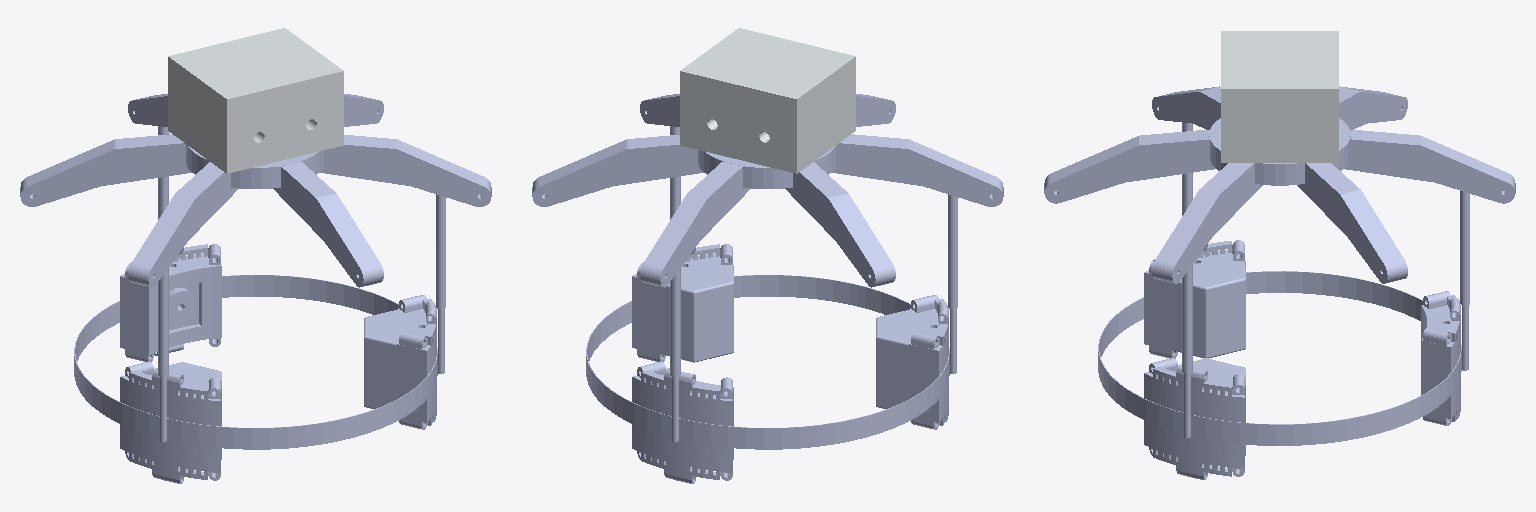
robot.urdf — GrasperAndGantry:
<?xml version="1.0" encoding="utf-8"?>
<!-- This URDF was automatically created by SolidWorks to URDF Exporter! Originally created by [author] ([email redacted]) 
     Commit Version: 1.6.0-4-g7f85cfe  Build Version: 1.6.7995.38578
     For more information, please see http://wiki.ros.org/sw_urdf_exporter -->
<robot
  name="GrasperAndGantry">
  <link
    name="base_link">
    <inertial>
      <origin
        xyz="-1.719E-16 -0.041985 0.017902"
        rpy="0 0 0" />
      <mass
        value="5.7776" />
      <inertia
        ixx="0.32319"
        ixy="1.4897E-16"
        ixz="3.4335E-19"
        iyy="0.27326"
        iyz="1.3637E-17"
        izz="0.59578" />
    </inertial>
    <visual>
      <origin
        xyz="0 0 0"
        rpy="0 0 0" />
      <geometry>
        <mesh
          filename="package://GrasperAndGantry/meshes/base_link.STL" />
      </geometry>
      <material
        name="">
        <color
          rgba="0.89804 0.91765 0.92941 1" />
      </material>
    </visual>
    <collision>
      <origin
        xyz="0 0 0"
        rpy="0 0 0" />
      <geometry>
        <mesh
          filename="package://GrasperAndGantry/meshes/base_link.STL" />
      </geometry>
    </collision>
  </link>
  <link
    name="LeftUpright">
    <inertial>
      <origin
        xyz="-0.28158 0.35631 -0.041985"
        rpy="0 0 0" />
      <mass
        value="1.4886" />
      <inertia
        ixx="0.056019"
        ixy="1.7816E-18"
        ixz="1.5056E-19"
        iyy="0.00025146"
        iyz="2.4679E-19"
        izz="0.056166" />
    </inertial>
    <visual>
      <origin
        xyz="0 0 0"
        rpy="0 0 0" />
      <geometry>
        <mesh
          filename="package://GrasperAndGantry/meshes/LeftUpright.STL" />
      </geometry>
      <material
        name="">
        <color
          rgba="0.89804 0.91765 0.92941 1" />
      </material>
    </visual>
    <collision>
      <origin
        xyz="0 0 0"
        rpy="0 0 0" />
      <geometry>
        <mesh
          filename="package://GrasperAndGantry/meshes/LeftUpright.STL" />
      </geometry>
    </collision>
  </link>
  <joint
    name="LeftUprightJoint"
    type="fixed">
    <origin
      xyz="0 -0.041985 0"
      rpy="1.5708 0 0" />
    <parent
      link="base_link" />
    <child
      link="LeftUpright" />
    <axis
      xyz="0 0 0" />
  </joint>
  <link
    name="ZBar">
    <inertial>
      <origin
        xyz="2.2859E-15 0.010235 -0.041985"
        rpy="0 0 0" />
      <mass
        value="0.92261" />
      <inertia
        ixx="0.00010656"
        ixy="-4.2485E-20"
        ixz="3.0107E-18"
        iyy="0.023961"
        iyz="2.4839E-21"
        izz="0.023919" />
    </inertial>
    <visual>
      <origin
        xyz="0 0 0"
        rpy="0 0 0" />
      <geometry>
        <mesh
          filename="package://GrasperAndGantry/meshes/ZBar.STL" />
      </geometry>
      <material
        name="">
        <color
          rgba="0.89412 0.91373 0.92941 1" />
      </material>
    </visual>
    <collision>
      <origin
        xyz="0 0 0"
        rpy="0 0 0" />
      <geometry>
        <mesh
          filename="package://GrasperAndGantry/meshes/ZBar.STL" />
      </geometry>
    </collision>
  </link>
  <joint
    name="ZBar_Joint"
    type="prismatic">
    <origin
      xyz="0 0.56296 0"
      rpy="0 0 0" />
    <parent
      link="LeftUpright" />
    <child
      link="ZBar" />
    <axis
      xyz="0 1 0" />
    <limit
      lower="-0.5"
      upper="0"
      effort="0"
      velocity="0" />
  </joint>
  <link
    name="GrasperBase">
    <inertial>
      <origin
        xyz="-0.028605 0.017479 3.8734E-16"
        rpy="0 0 0" />
      <mass
        value="0.26347" />
      <inertia
        ixx="8.1922E-05"
        ixy="-3.9184E-22"
        ixz="-1.6378E-21"
        iyy="0.00012733"
        iyz="1.3026E-21"
        izz="9.9473E-05" />
    </inertial>
    <visual>
      <origin
        xyz="0 0 0"
        rpy="0 0 0" />
      <geometry>
        <mesh
          filename="package://GrasperAndGantry/meshes/GrasperBase.STL" />
      </geometry>
      <material
        name="">
        <color
          rgba="0.89412 0.91373 0.92941 1" />
      </material>
    </visual>
    <collision>
      <origin
        xyz="0 0 0"
        rpy="0 0 0" />
      <geometry>
        <mesh
          filename="package://GrasperAndGantry/meshes/GrasperBase.STL" />
      </geometry>
    </collision>
  </link>
  <joint
    name="GrasperBase"
    type="prismatic">
    <origin
      xyz="0.028605 -0.0348 -0.041985"
      rpy="0 0 0" />
    <parent
      link="ZBar" />
    <child
      link="GrasperBase" />
    <axis
      xyz="1 0 0" />
    <limit
      lower="-0.2"
      upper="0.2"
      effort="0"
      velocity="0" />
  </joint>
  <link
    name="GrasperConnector">
    <inertial>
      <origin
        xyz="1.5935E-17 0.090818 1.2891E-15"
        rpy="0 0 0" />
      <mass
        value="0.092827" />
      <inertia
        ixx="0.00014637"
        ixy="1.0134E-18"
        ixz="-4.9036E-19"
        iyy="0.00027935"
        iyz="3.4682E-18"
        izz="0.00014637" />
    </inertial>
    <visual>
      <origin
        xyz="0 0 0"
        rpy="0 0 0" />
      <geometry>
        <mesh
          filename="package://GrasperAndGantry/meshes/GrasperConnector.STL" />
      </geometry>
      <material
        name="">
        <color
          rgba="0.79216 0.81961 0.93333 1" />
      </material>
    </visual>
    <collision>
      <origin
        xyz="0 0 0"
        rpy="0 0 0" />
      <geometry>
        <mesh
          filename="package://GrasperAndGantry/meshes/GrasperConnector.STL" />
      </geometry>
    </collision>
  </link>
  <joint
    name="GBGB"
    type="fixed">
    <origin
      xyz="-0.028605 -0.10472 0"
      rpy="0 0 0" />
    <parent
      link="GrasperBase" />
    <child
      link="GrasperConnector" />
    <axis
      xyz="0 0 0" />
  </joint>
  <link
    name="CylinderCons">
    <inertial>
      <origin
        xyz="-3.16E-15 0.0028145 2.5434E-15"
        rpy="0 0 0" />
      <mass
        value="0.0026009" />
      <inertia
        ixx="7.883E-06"
        ixy="1.4399E-21"
        ixz="-5.4643E-21"
        iyy="1.5503E-05"
        iyz="1.3506E-20"
        izz="7.883E-06" />
    </inertial>
    <visual>
      <origin
        xyz="0 0 0"
        rpy="0 0 0" />
      <geometry>
        <mesh
          filename="package://GrasperAndGantry/meshes/CylinderCons.STL" />
      </geometry>
      <material
        name="">
        <color
          rgba="0.79216 0.81961 0.93333 1" />
      </material>
    </visual>
    <collision>
      <origin
        xyz="0 0 0"
        rpy="0 0 0" />
      <geometry>
        <mesh
          filename="package://GrasperAndGantry/meshes/CylinderCons.STL" />
      </geometry>
    </collision>
  </link>
  <joint
    name="BCC"
    type="fixed">
    <origin
      xyz="0 0 0"
      rpy="0 0 0" />
    <parent
      link="GrasperConnector" />
    <child
      link="CylinderCons" />
    <axis
      xyz="0 0 0" />
  </joint>
  <link
    name="SoftSupport1">
    <inertial>
      <origin
        xyz="-3.4907E-15 -6.088E-05 -0.069509"
        rpy="0 0 0" />
      <mass
        value="0.020019" />
      <inertia
        ixx="2.8922E-06"
        ixy="1.8558E-21"
        ixz="1.5663E-20"
        iyy="3.6958E-06"
        iyz="-8.3292E-10"
        izz="5.9269E-06" />
    </inertial>
    <visual>
      <origin
        xyz="0 0 0"
        rpy="0 0 0" />
      <geometry>
        <mesh
          filename="package://GrasperAndGantry/meshes/SoftSupport1.STL" />
      </geometry>
      <material
        name="">
        <color
          rgba="0.79216 0.81961 0.93333 1" />
      </material>
    </visual>
    <collision>
      <origin
        xyz="0 0 0"
        rpy="0 0 0" />
      <geometry>
        <mesh
          filename="package://GrasperAndGantry/meshes/SoftSupport1.STL" />
      </geometry>
    </collision>
  </link>
  <joint
    name="LinearJaw1"
    type="prismatic">
    <origin
      xyz="0 0 0"
      rpy="0 0 0" />
    <parent
      link="CylinderCons" />
    <child
      link="SoftSupport1" />
    <axis
      xyz="0 0 1" />
    <limit
      lower="0"
      upper="1"
      effort="0"
      velocity="0" />
    <dynamics
      damping="0.1"
      friction="0.1" />
  </joint>
  <link
    name="SoftJaw1">
    <inertial>
      <origin
        xyz="-3.4944E-15 0 -0.054391"
        rpy="0 0 0" />
      <mass
        value="0.015121" />
      <inertia
        ixx="1.7236E-06"
        ixy="-4.3817E-21"
        ixz="-2.0706E-21"
        iyy="1.331E-06"
        iyz="-4.0882E-22"
        izz="2.4259E-06" />
    </inertial>
    <visual>
      <origin
        xyz="0 0 0"
        rpy="0 0 0" />
      <geometry>
        <mesh
          filename="package://GrasperAndGantry/meshes/SoftJaw1.STL" />
      </geometry>
      <material
        name="">
        <color
          rgba="0.79216 0.81961 0.93333 1" />
      </material>
    </visual>
    <collision>
      <origin
        xyz="0 0 0"
        rpy="0 0 0" />
      <geometry>
        <mesh
          filename="package://GrasperAndGantry/meshes/SoftJaw1.STL" />
      </geometry>
    </collision>
  </link>
  <joint
    name="SJ1"
    type="fixed">
    <origin
      xyz="0 0 0"
      rpy="0 0 0" />
    <parent
      link="SoftSupport1" />
    <child
      link="SoftJaw1" />
    <axis
      xyz="0 0 0" />
  </joint>
  <link
    name="SoftSupport2">
    <inertial>
      <origin
        xyz="5.0259E-09 -6.0879E-05 -0.069509"
        rpy="0 0 0" />
      <mass
        value="0.020019" />
      <inertia
        ixx="2.8922E-06"
        ixy="-2.1735E-13"
        ixz="-2.0391E-13"
        iyy="3.6958E-06"
        iyz="-8.3305E-10"
        izz="5.9269E-06" />
    </inertial>
    <visual>
      <origin
        xyz="0 0 0"
        rpy="0 0 0" />
      <geometry>
        <mesh
          filename="package://GrasperAndGantry/meshes/SoftSupport2.STL" />
      </geometry>
      <material
        name="">
        <color
          rgba="0.79216 0.81961 0.93333 1" />
      </material>
    </visual>
    <collision>
      <origin
        xyz="0 0 0"
        rpy="0 0 0" />
      <geometry>
        <mesh
          filename="package://GrasperAndGantry/meshes/SoftSupport2.STL" />
      </geometry>
    </collision>
  </link>
  <joint
    name="LinearJaw2"
    type="prismatic">
    <origin
      xyz="0 0 0"
      rpy="3.1416 -1.0472 3.1416" />
    <parent
      link="CylinderCons" />
    <child
      link="SoftSupport2" />
    <axis
      xyz="-0.86603 0 -0.5" />
    <limit
      lower="0"
      upper="1"
      effort="0"
      velocity="0" />
    <dynamics
      damping="0.1"
      friction="0.1" />
  </joint>
  <link
    name="SoftJaw2">
    <inertial>
      <origin
        xyz="-6.7381E-11 5.5511E-17 -0.054391"
        rpy="0 0 0" />
      <mass
        value="0.015121" />
      <inertia
        ixx="1.7236E-06"
        ixy="-1.7784E-21"
        ixz="1.0243E-14"
        iyy="1.331E-06"
        iyz="8.3805E-23"
        izz="2.4259E-06" />
    </inertial>
    <visual>
      <origin
        xyz="0 0 0"
        rpy="0 0 0" />
      <geometry>
        <mesh
          filename="package://GrasperAndGantry/meshes/SoftJaw2.STL" />
      </geometry>
      <material
        name="">
        <color
          rgba="0.79216 0.81961 0.93333 1" />
      </material>
    </visual>
    <collision>
      <origin
        xyz="0 0 0"
        rpy="0 0 0" />
      <geometry>
        <mesh
          filename="package://GrasperAndGantry/meshes/SoftJaw2.STL" />
      </geometry>
    </collision>
  </link>
  <joint
    name="SJ2"
    type="fixed">
    <origin
      xyz="0 0 0"
      rpy="0 0 0" />
    <parent
      link="SoftSupport2" />
    <child
      link="SoftJaw2" />
    <axis
      xyz="0 0 0" />
  </joint>
  <link
    name="SoftSupport3">
    <inertial>
      <origin
        xyz="-5.0259E-09 -6.0879E-05 -0.069509"
        rpy="0 0 0" />
      <mass
        value="0.020019" />
      <inertia
        ixx="2.8922E-06"
        ixy="2.1735E-13"
        ixz="2.0391E-13"
        iyy="3.6958E-06"
        iyz="-8.3305E-10"
        izz="5.9269E-06" />
    </inertial>
    <visual>
      <origin
        xyz="0 0 0"
        rpy="0 0 0" />
      <geometry>
        <mesh
          filename="package://GrasperAndGantry/meshes/SoftSupport3.STL" />
      </geometry>
      <material
        name="">
        <color
          rgba="0.79216 0.81961 0.93333 1" />
      </material>
    </visual>
    <collision>
      <origin
        xyz="0 0 0"
        rpy="0 0 0" />
      <geometry>
        <mesh
          filename="package://GrasperAndGantry/meshes/SoftSupport3.STL" />
      </geometry>
    </collision>
  </link>
  <joint
    name="LinearJaw3"
    type="prismatic">
    <origin
      xyz="0 0 0"
      rpy="3.1416 1.0472 3.1416" />
    <parent
      link="CylinderCons" />
    <child
      link="SoftSupport3" />
    <axis
      xyz="0.86603 0 -0.5" />
    <limit
      lower="0"
      upper="1"
      effort="0"
      velocity="0" />
    <dynamics
      damping="0.1"
      friction="0.1" />
  </joint>
  <link
    name="SoftJaw3">
    <inertial>
      <origin
        xyz="6.7374E-11 5.5511E-17 -0.054391"
        rpy="0 0 0" />
      <mass
        value="0.015121" />
      <inertia
        ixx="1.7236E-06"
        ixy="-2.8035E-21"
        ixz="-1.0243E-14"
        iyy="1.331E-06"
        iyz="-1.2094E-22"
        izz="2.4259E-06" />
    </inertial>
    <visual>
      <origin
        xyz="0 0 0"
        rpy="0 0 0" />
      <geometry>
        <mesh
          filename="package://GrasperAndGantry/meshes/SoftJaw3.STL" />
      </geometry>
      <material
        name="">
        <color
          rgba="0.79216 0.81961 0.93333 1" />
      </material>
    </visual>
    <collision>
      <origin
        xyz="0 0 0"
        rpy="0 0 0" />
      <geometry>
        <mesh
          filename="package://GrasperAndGantry/meshes/SoftJaw3.STL" />
      </geometry>
    </collision>
  </link>
  <joint
    name="SJ3"
    type="fixed">
    <origin
      xyz="0 0 0"
      rpy="0 0 0" />
    <parent
      link="SoftSupport3" />
    <child
      link="SoftJaw3" />
    <axis
      xyz="0 0 0" />
  </joint>
  <link
    name="RightUpright">
    <inertial>
      <origin
        xyz="0.28158 0.35631 -0.041985"
        rpy="0 0 0" />
      <mass
        value="1.4886" />
      <inertia
        ixx="0.056019"
        ixy="1.2421E-18"
        ixz="-2.2308E-19"
        iyy="0.00025146"
        iyz="1.1323E-18"
        izz="0.056166" />
    </inertial>
    <visual>
      <origin
        xyz="0 0 0"
        rpy="0 0 0" />
      <geometry>
        <mesh
          filename="package://GrasperAndGantry/meshes/RightUpright.STL" />
      </geometry>
      <material
        name="">
        <color
          rgba="0.89804 0.91765 0.92941 1" />
      </material>
    </visual>
    <collision>
      <origin
        xyz="0 0 0"
        rpy="0 0 0" />
      <geometry>
        <mesh
          filename="package://GrasperAndGantry/meshes/RightUpright.STL" />
      </geometry>
    </collision>
  </link>
  <joint
    name="RightUprightJoint"
    type="fixed">
    <origin
      xyz="0 -0.041985 0"
      rpy="1.5708 0 0" />
    <parent
      link="base_link" />
    <child
      link="RightUpright" />
    <axis
      xyz="0 0 0" />
    <limit
      lower="-0.5"
      upper="0.5"
      effort="0"
      velocity="0" />
    <dynamics
      damping="0"
      friction="0" />
  </joint>
  <link
    name="BasePlate">
    <inertial>
      <origin
        xyz="0 0 0"
        rpy="0 0 0" />
      <mass
        value="0" />
      <inertia
        ixx="0"
        ixy="0"
        ixz="0"
        iyy="0"
        iyz="0"
        izz="0" />
    </inertial>
    <visual>
      <origin
        xyz="0 0 0"
        rpy="0 0 0" />
      <geometry>
        <mesh
          filename="package://GrasperAndGantry/meshes/BasePlate.STL" />
      </geometry>
      <material
        name="">
        <color
          rgba="1 1 1 1" />
      </material>
    </visual>
    <collision>
      <origin
        xyz="0 0 0"
        rpy="0 0 0" />
      <geometry>
        <mesh
          filename="package://GrasperAndGantry/meshes/BasePlate.STL" />
      </geometry>
    </collision>
  </link>
  <joint
    name="BasePlateJoint"
    type="prismatic">
    <origin
      xyz="0 -0.25718 0.05914"
      rpy="1.5708 0 0" />
    <parent
      link="base_link" />
    <child
      link="BasePlate" />
    <axis
      xyz="0 0 1" />
    <limit
      lower="-0.3"
      upper="0.3"
      effort="0"
      velocity="0" />
    <dynamics
      damping="0"
      friction="3" />
  </joint>
  <link
    name="ObjectBase">
    <inertial>
      <origin
        xyz="2.3079E-50 0.01 3.0679E-19"
        rpy="0 0 0" />
      <mass
        value="0.03817" />
      <inertia
        ixx="3.4194E-06"
        ixy="-1.1064E-38"
        ixz="5.1616E-54"
        iyy="4.2942E-06"
        iyz="-3.4866E-39"
        izz="3.4194E-06" />
    </inertial>
    <visual>
      <origin
        xyz="0 0 0"
        rpy="0 0 0" />
      <geometry>
        <mesh
          filename="package://GrasperAndGantry/meshes/ObjectBase.STL" />
      </geometry>
      <material
        name="">
        <color
          rgba="0.89804 0.91765 0.92941 1" />
      </material>
    </visual>
    <collision>
      <origin
        xyz="0 0 0"
        rpy="0 0 0" />
      <geometry>
        <mesh
          filename="package://GrasperAndGantry/meshes/ObjectBase.STL" />
      </geometry>
    </collision>
  </link>
  <joint
    name="ObjectBaseJoint"
    type="fixed">
    <origin
      xyz="0 0.00382 -0.25718"
      rpy="0 0 0" />
    <parent
      link="BasePlate" />
    <child
      link="ObjectBase" />
    <axis
      xyz="0 0 0" />
  </joint>
</robot>

--- Facts derived from the render (not from the file) ---
The picture shows the robot from 3 angles, left to right: view 1: azimuth 30°, elevation 25°; view 2: azimuth 150°, elevation 25°; view 3: azimuth 270°, elevation 25°; orthographic projection.
Model GrasperAndGantry with 15 links and 14 joints (6 prismatic, 8 fixed), rooted at base_link, posed every joint at zero.
Visible links, largest first — view 1: GrasperConnector, GrasperBase, CylinderCons, SoftSupport1, SoftSupport3, SoftSupport2, SoftJaw2, SoftJaw3; view 2: GrasperConnector, GrasperBase, CylinderCons, SoftSupport1, SoftJaw2, SoftSupport3, SoftSupport2, SoftJaw3; view 3: GrasperConnector, GrasperBase, CylinderCons, SoftSupport2, SoftJaw3, SoftSupport1, SoftSupport3, SoftJaw2.
Link boxes in pixels (x1=…): GrasperConnector: x1=20, y1=94, x2=491, y2=376; GrasperBase: x1=168, y1=28, x2=343, y2=173; CylinderCons: x1=74, y1=275, x2=444, y2=449; SoftSupport1: x1=120, y1=244, x2=221, y2=361; SoftSupport3: x1=120, y1=361, x2=221, y2=483; SoftSupport2: x1=397, y1=295, x2=436, y2=429; SoftJaw2: x1=364, y1=310, x2=402, y2=408; SoftJaw3: x1=169, y1=362, x2=221, y2=386; GrasperConnector: x1=532, y1=94, x2=1003, y2=376; GrasperBase: x1=680, y1=28, x2=855, y2=173; CylinderCons: x1=586, y1=275, x2=956, y2=449; SoftSupport1: x1=632, y1=361, x2=733, y2=483; SoftJaw2: x1=661, y1=266, x2=733, y2=362; SoftSupport3: x1=909, y1=295, x2=948, y2=429; SoftSupport2: x1=632, y1=244, x2=733, y2=361; SoftJaw3: x1=876, y1=310, x2=914, y2=408; GrasperConnector: x1=1044, y1=86, x2=1515, y2=372; GrasperBase: x1=1221, y1=31, x2=1338, y2=162; CylinderCons: x1=1098, y1=271, x2=1468, y2=445; SoftSupport2: x1=1144, y1=358, x2=1245, y2=479; SoftJaw3: x1=1173, y1=262, x2=1245, y2=358; SoftSupport1: x1=1421, y1=291, x2=1460, y2=425; SoftSupport3: x1=1144, y1=240, x2=1245, y2=358; SoftJaw2: x1=1178, y1=358, x2=1245, y2=382.
Size in the robot's own frame: 0.1777 by 0.1995 by 0.165 metres.
8 mesh visuals loaded from 15 distinct referenced files (8 binary STL); not drawn: 7 (reference not matched to a file when rendering).